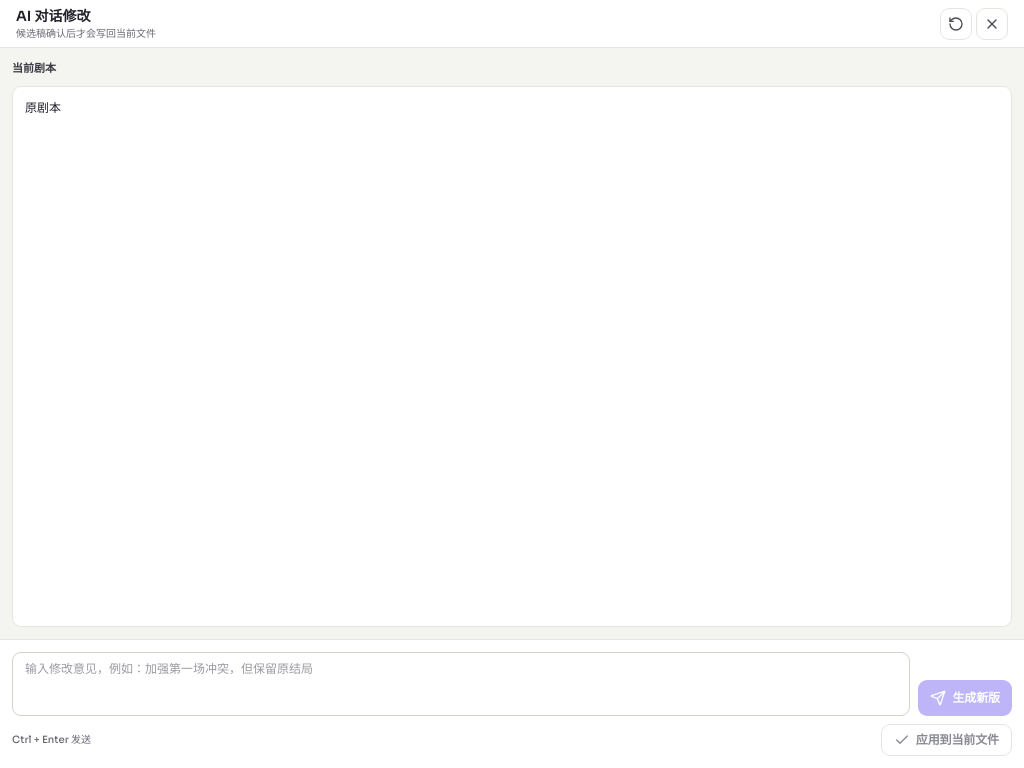
Test: ScriptIterationPanel › uses the previous candidate and conversation when iterating again
Step 1. Type "加强冲突" into the text box with placeholder "输入修改意见，例如：加强第一场冲突，但保留原结局" → point(461, 684), box [12, 652, 910, 716]
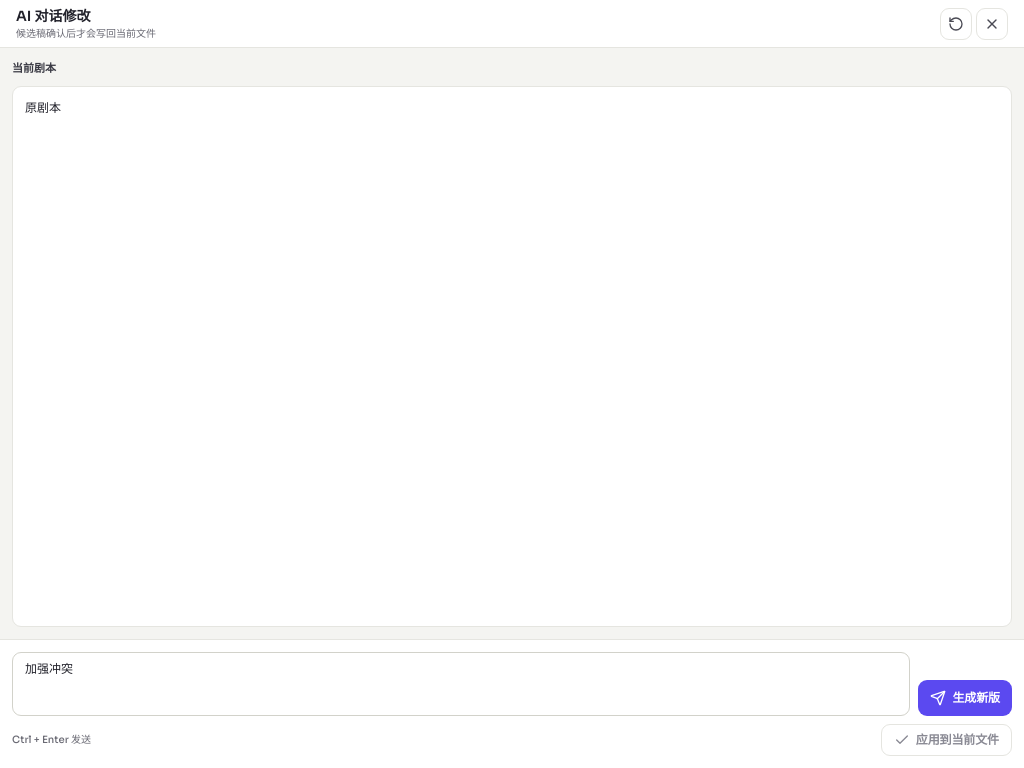
Step 2. Click the button "生成新版" → point(965, 698), box [918, 680, 1012, 716]
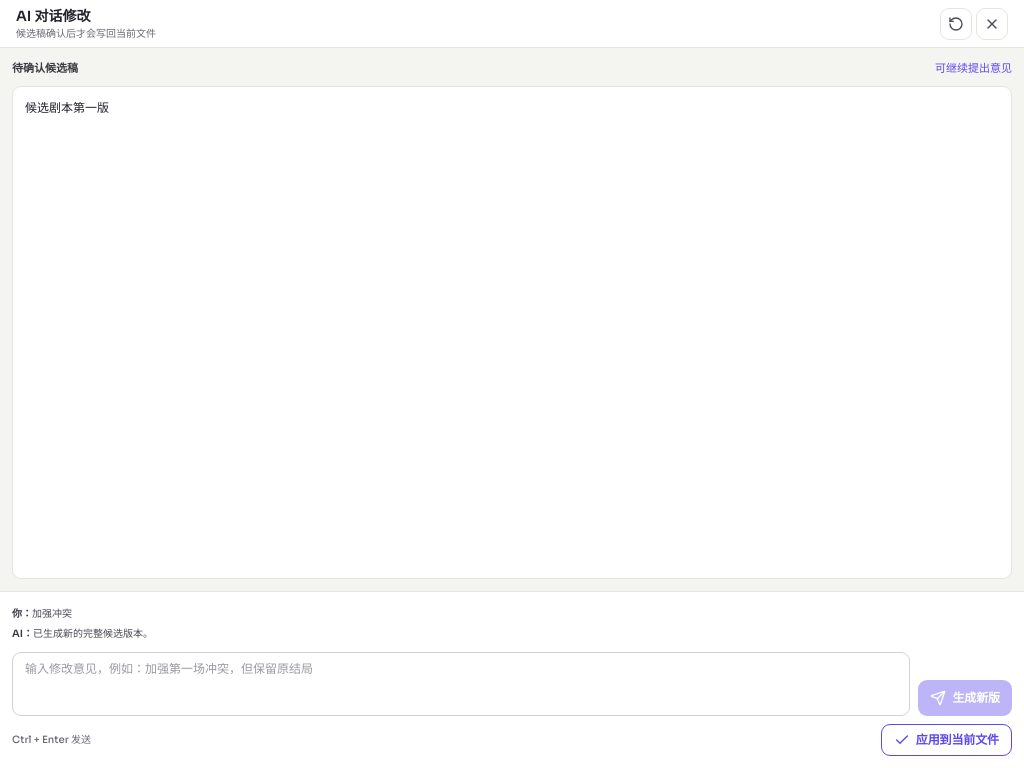
Check: the text box showing "候选剧本第一版" is shown
Step 3. Type "保留原结局" into the text box with placeholder "输入修改意见，例如：加强第一场冲突，但保留原结局" → point(461, 684), box [12, 652, 910, 716]
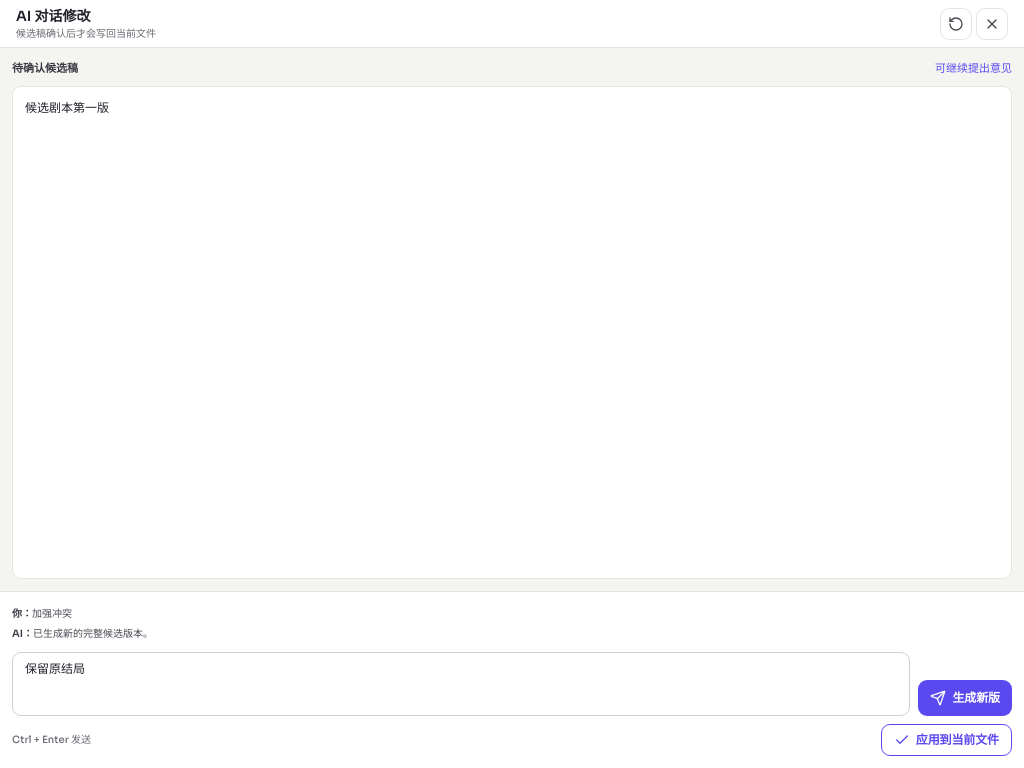
Step 4. Click the button "生成新版" → point(965, 698), box [918, 680, 1012, 716]
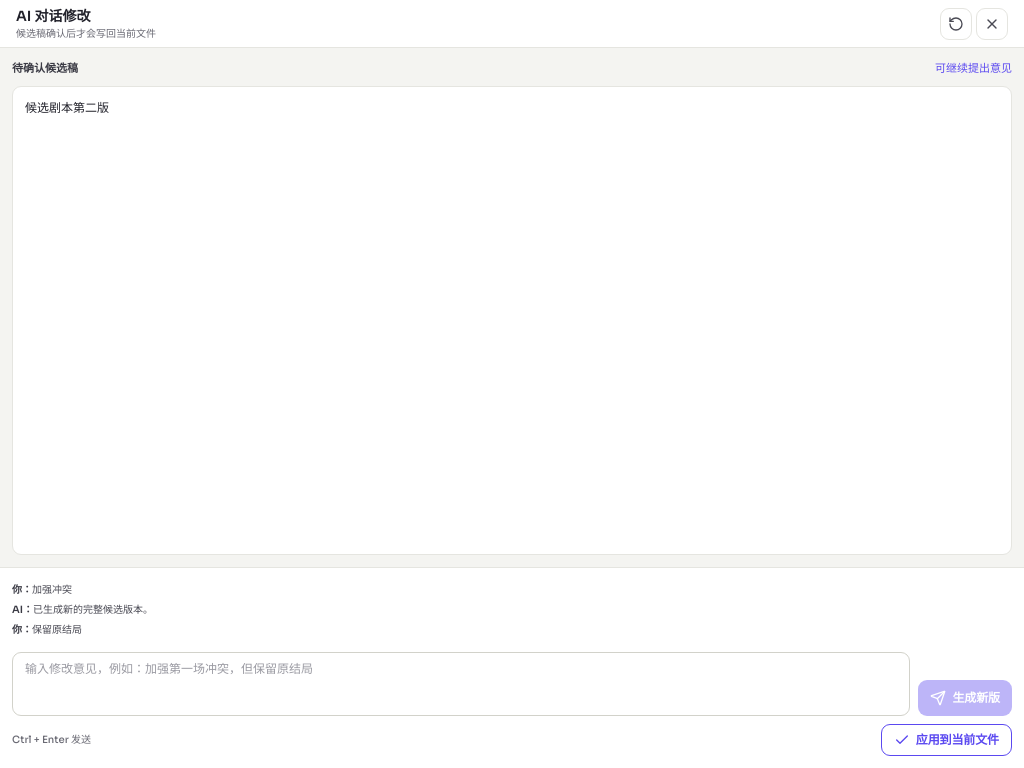
Check: the text box named "剧本候选稿" holds "候选剧本第二版", box [12, 86, 1012, 555]
